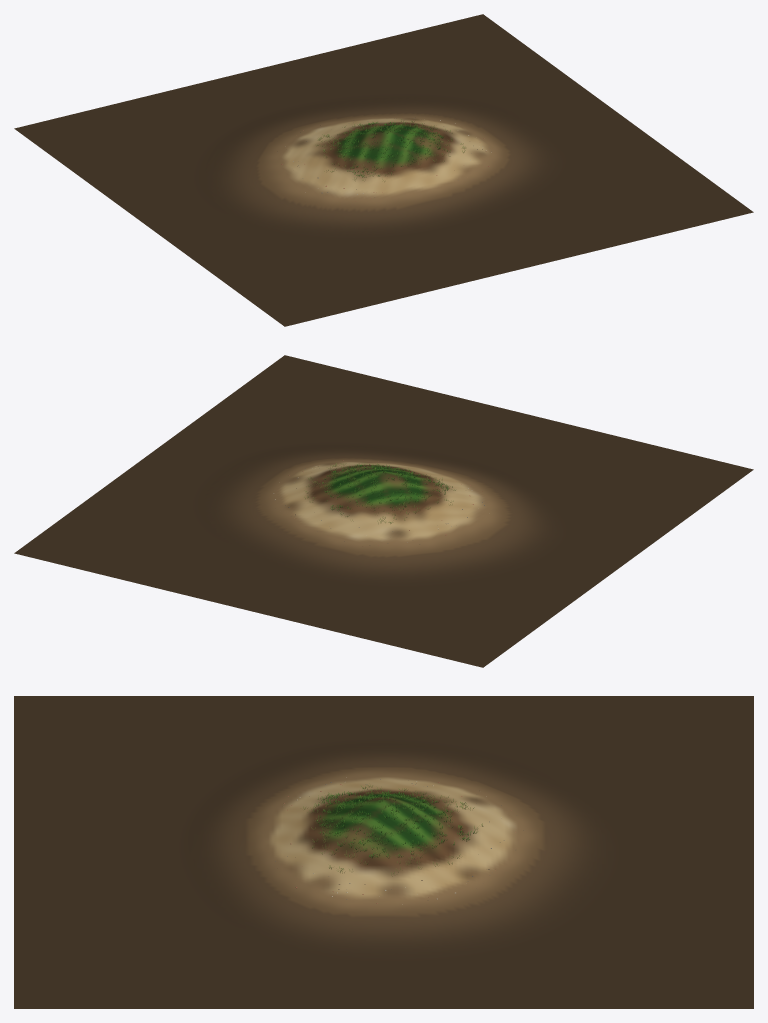
Rendered from island.glb.
3 renders of one model, top to bottom at view 1: azimuth 30°, elevation 25°; view 2: azimuth 150°, elevation 25°; view 3: azimuth 270°, elevation 25°, orthographic. The views are drawn at different scales.
Parts seen in each view (by area): view 1: IslandTerrain, IslandGrassTufts; view 2: IslandTerrain, IslandGrassTufts; view 3: IslandTerrain, IslandGrassTufts, CoastalDuneGrass.
Boxes of the visible parts, x1,y1,x2,y2 form: IslandTerrain: (14, 14, 753, 326); IslandGrassTufts: (332, 122, 444, 177); IslandTerrain: (14, 355, 753, 667); IslandGrassTufts: (322, 464, 449, 514); IslandTerrain: (14, 696, 753, 1008); IslandGrassTufts: (315, 790, 474, 858); CoastalDuneGrass: (303, 783, 483, 876).
Size of the model in its own units: 66 by 5.44 by 66.
